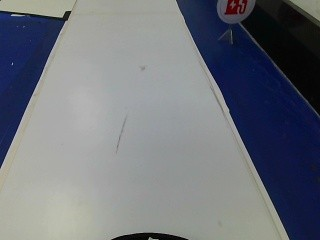battery: (216, 0, 253, 24)
